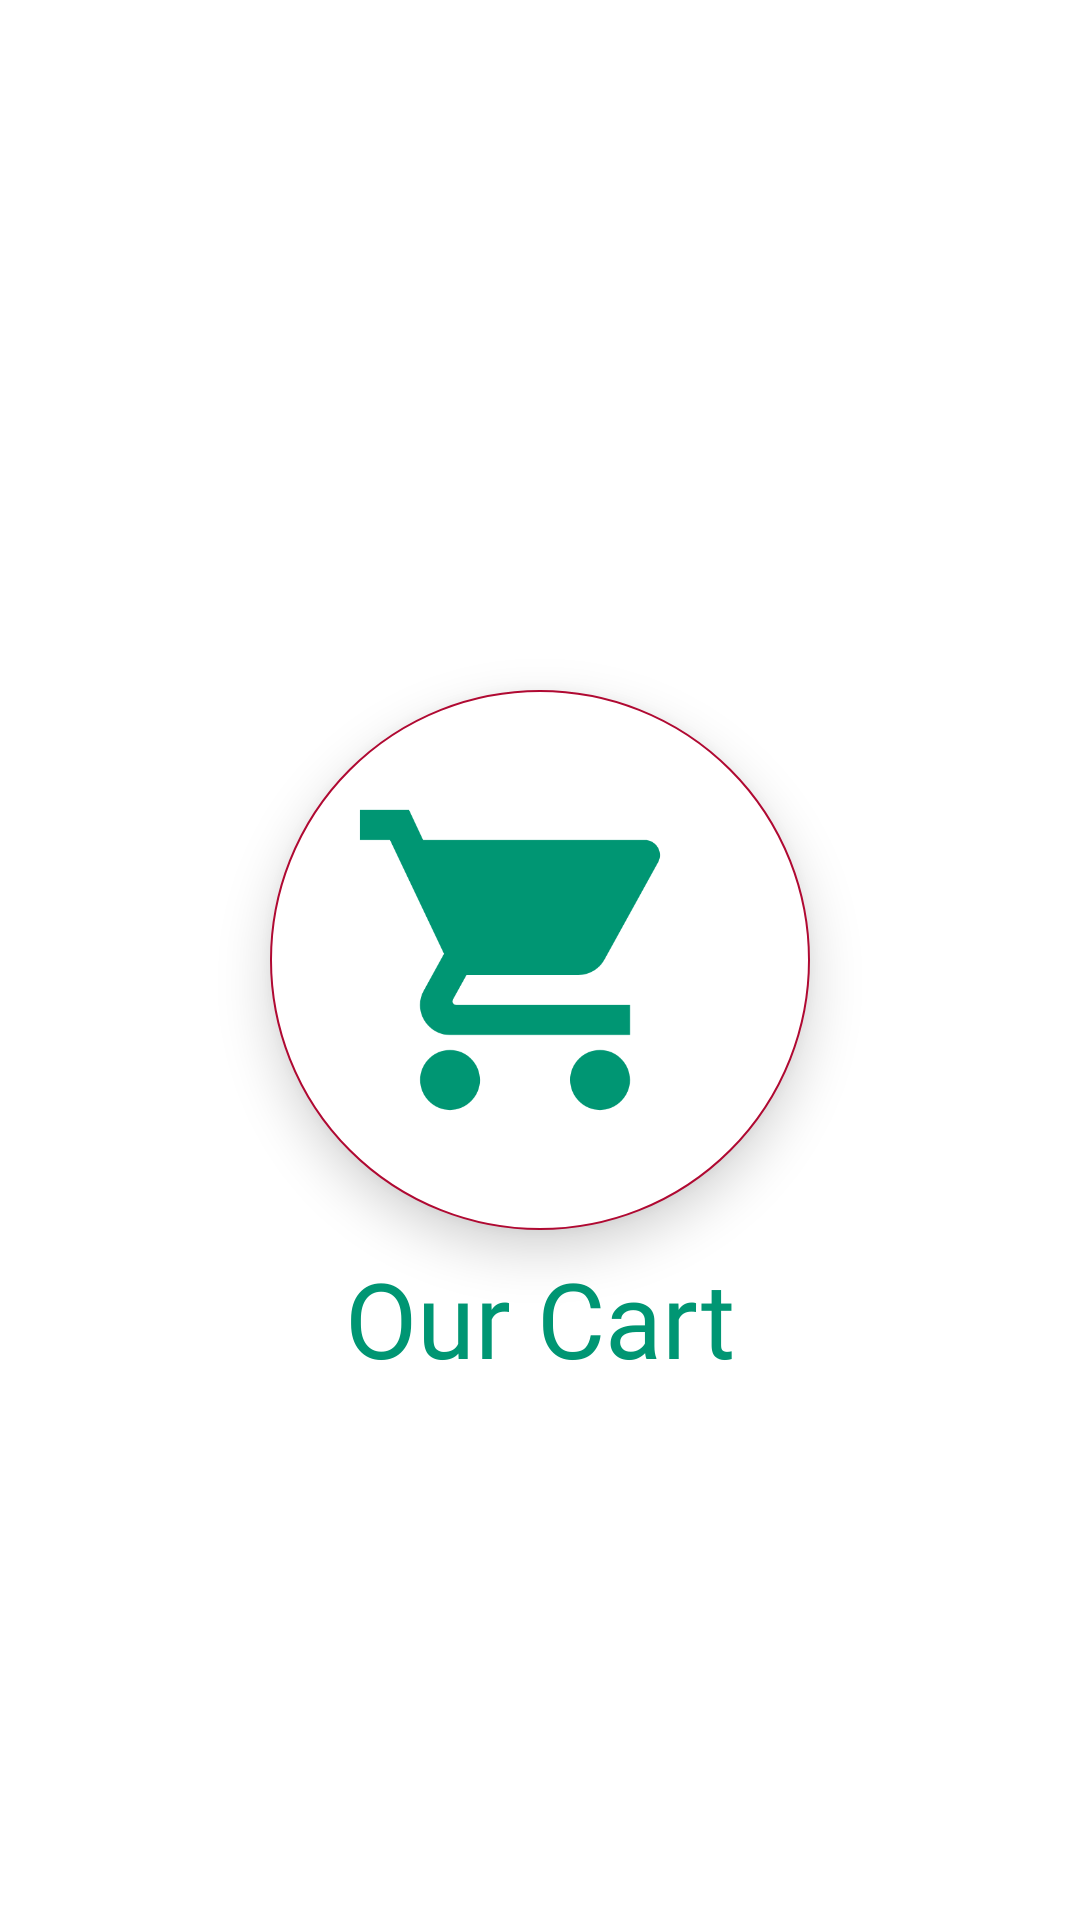

Icon bounding boxes for this 1080px×1920px phone screenshot, format (x1, y1, x2, y2):
shopping cart: (360, 809, 660, 1111)
